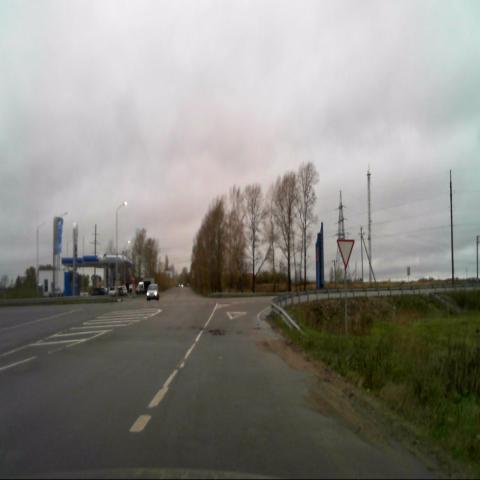2_4: (336, 238, 355, 268)
